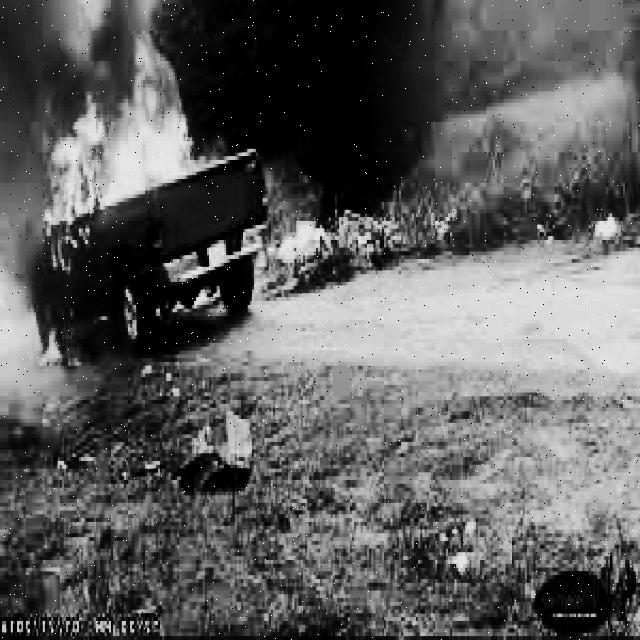api: (34, 40, 204, 268)
